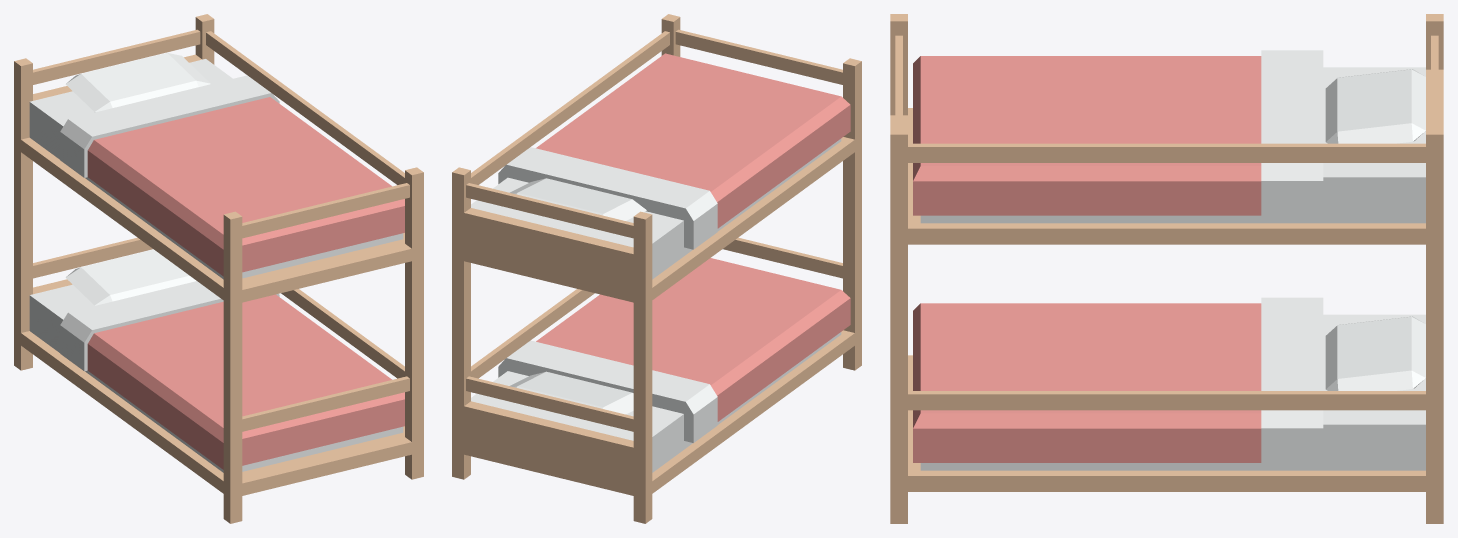
Rendered from bedBunk.glb.
The picture shows the model from 3 angles, left to right: view 1: azimuth 30°, elevation 25°; view 2: azimuth 150°, elevation 25°; view 3: azimuth 270°, elevation 25°; orthographic projection. The views are drawn at different scales.
Parts seen in each view (by area): view 1: bedBunk(Clone), coverTop, coverBottom, pillowTop, pillowBottom; view 2: bedBunk(Clone), coverTop, coverBottom, pillowTop, pillowBottom; view 3: bedBunk(Clone), coverTop, coverBottom, pillowTop, pillowBottom.
Part boxes in pixels (x1=…): bedBunk(Clone): x1=14, y1=14, x2=423, y2=523; coverTop: x1=60, y1=75, x2=404, y2=276; coverBottom: x1=60, y1=281, x2=404, y2=469; pillowTop: x1=65, y1=53, x2=210, y2=112; pillowBottom: x1=65, y1=249, x2=196, y2=305; bedBunk(Clone): x1=452, y1=14, x2=861, y2=523; coverTop: x1=498, y1=53, x2=850, y2=249; coverBottom: x1=498, y1=258, x2=850, y2=442; pillowTop: x1=510, y1=178, x2=646, y2=220; pillowBottom: x1=509, y1=371, x2=633, y2=414; bedBunk(Clone): x1=890, y1=14, x2=1443, y2=523; coverTop: x1=913, y1=50, x2=1323, y2=217; coverBottom: x1=913, y1=297, x2=1323, y2=464; pillowTop: x1=1325, y1=69, x2=1425, y2=143; pillowBottom: x1=1325, y1=316, x2=1425, y2=390.
Size of the model in its own units: 1.16 by 1.73 by 2.22.
Materials: 3 (3 with a texture image).
